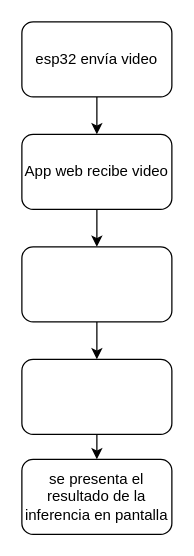
The diagram is 194 pixels wide and 556 high, and some of its shapes have lost their labels. The shapes that lost their labels are listed below. From the top down, each one's box as (x1, y1, x2, y2) in pixels, then its label:
(21, 246, 172, 322): Presenta video en pantalla
(21, 358, 172, 434): cada ciertos frames de utiliza el modelo para inferir madurez
